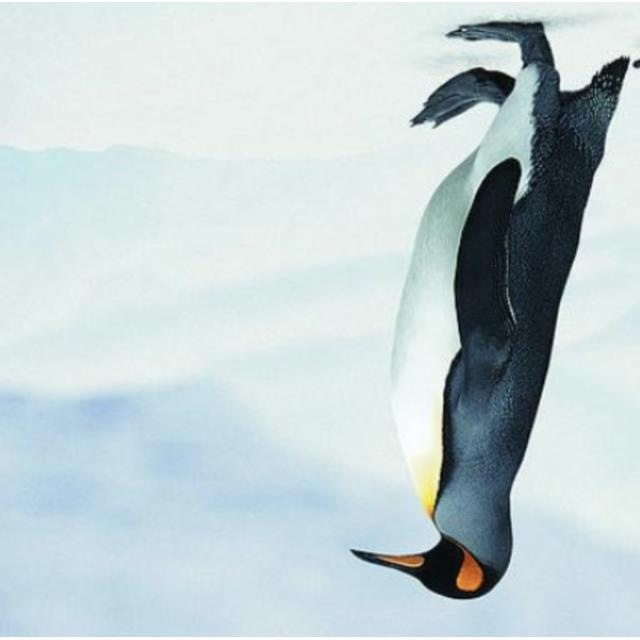penguin: (349, 19, 628, 601)
